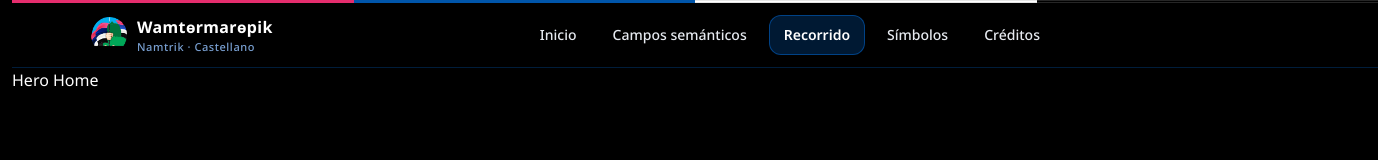
Scenario: PublicHeader › navega efectivamente a /campos al hacer clic en "Campos semánticos" desde el Home con #inicio presente (R-024)
Click the link "Campos semánticos": (680, 34) [613,25,747,44]
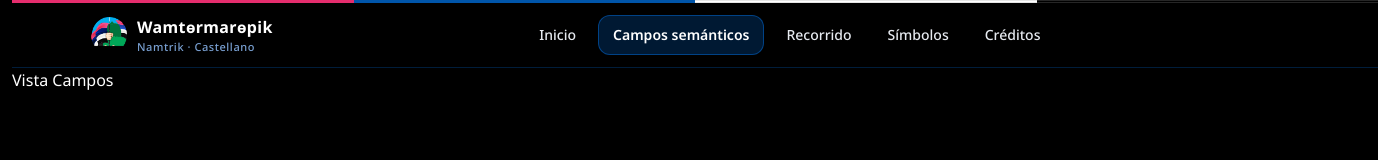
Expected: the text "Vista Campos" is shown, [12,69,114,91]
